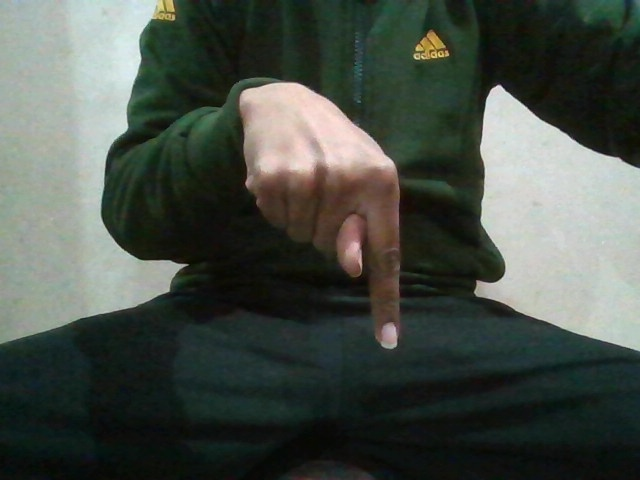Z: (245, 120, 420, 358)
